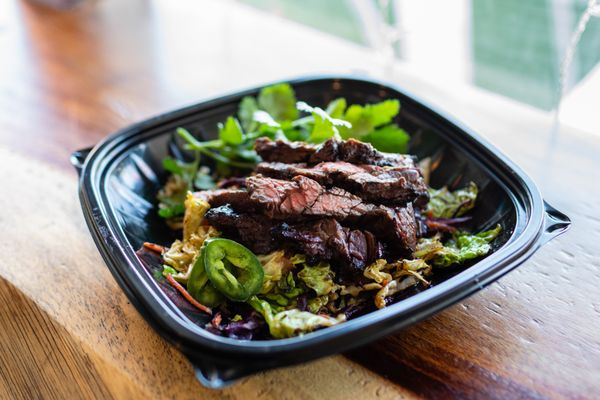sushi: (74, 76, 554, 386)
